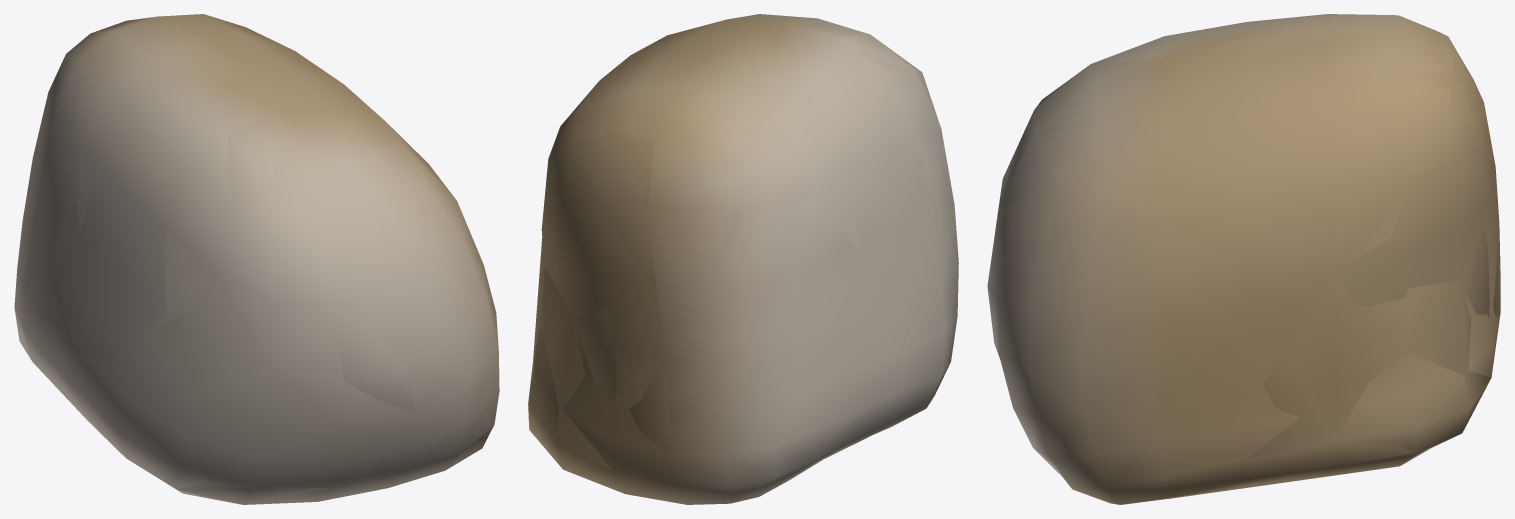
Rendered from L carpale tertium.fbx.
The picture shows the model from 3 angles, left to right: view 1: azimuth 30°, elevation 25°; view 2: azimuth 150°, elevation 25°; view 3: azimuth 270°, elevation 25°; orthographic projection. The views are drawn at different scales.
Visible parts, largest first — view 1: L carpale tertium, L carpale tertium low; view 2: L carpale tertium, L carpale tertium low; view 3: L carpale tertium, L carpale tertium low.
Part boxes in pixels (x1,y1,x2,y2): L carpale tertium: (14, 14, 499, 504); L carpale tertium low: (76, 14, 498, 504); L carpale tertium: (528, 14, 958, 504); L carpale tertium low: (533, 23, 943, 504); L carpale tertium: (987, 14, 1500, 504); L carpale tertium low: (990, 16, 1500, 503).
Bounding box in the file's own units: 0.833 × 0.8855 × 1.03.
